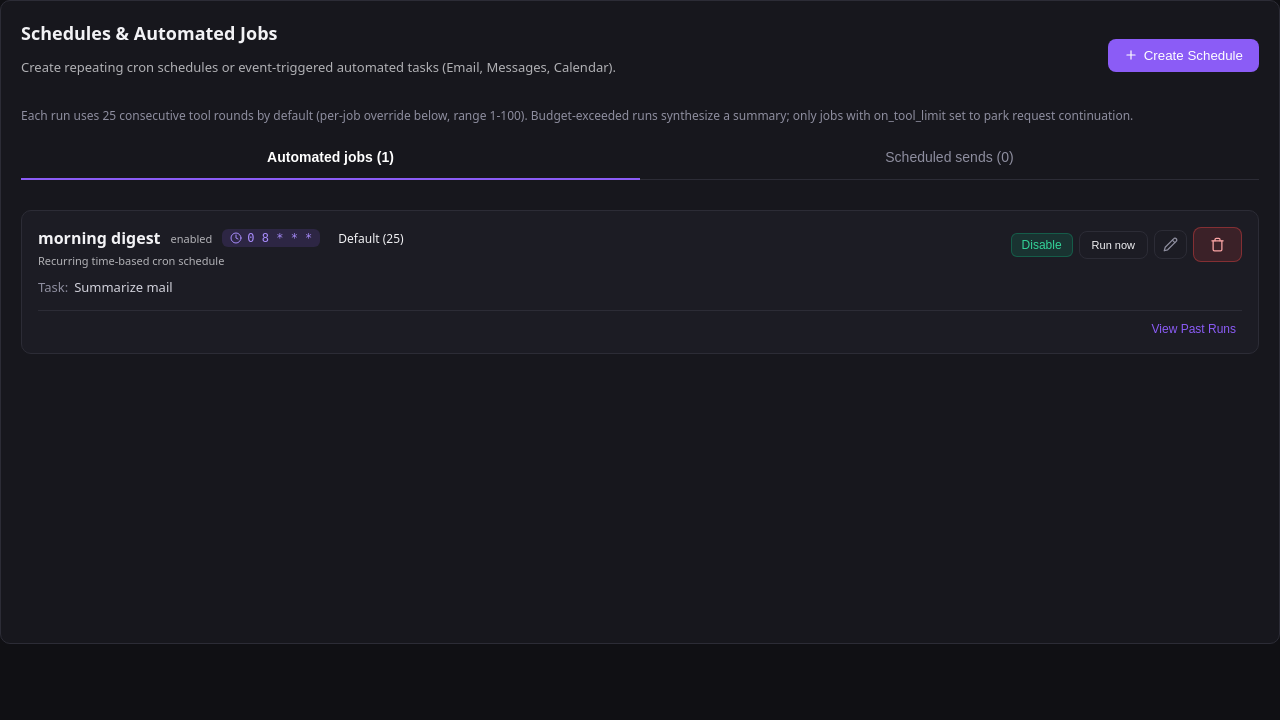
SchedulerManager › runs a job now and deletes it through the shared modal
Expected: the text "morning digest" is shown, [38, 227, 161, 249]
Step 1. Click the button "Run now" → (1113,244), box [1079, 230, 1148, 258]
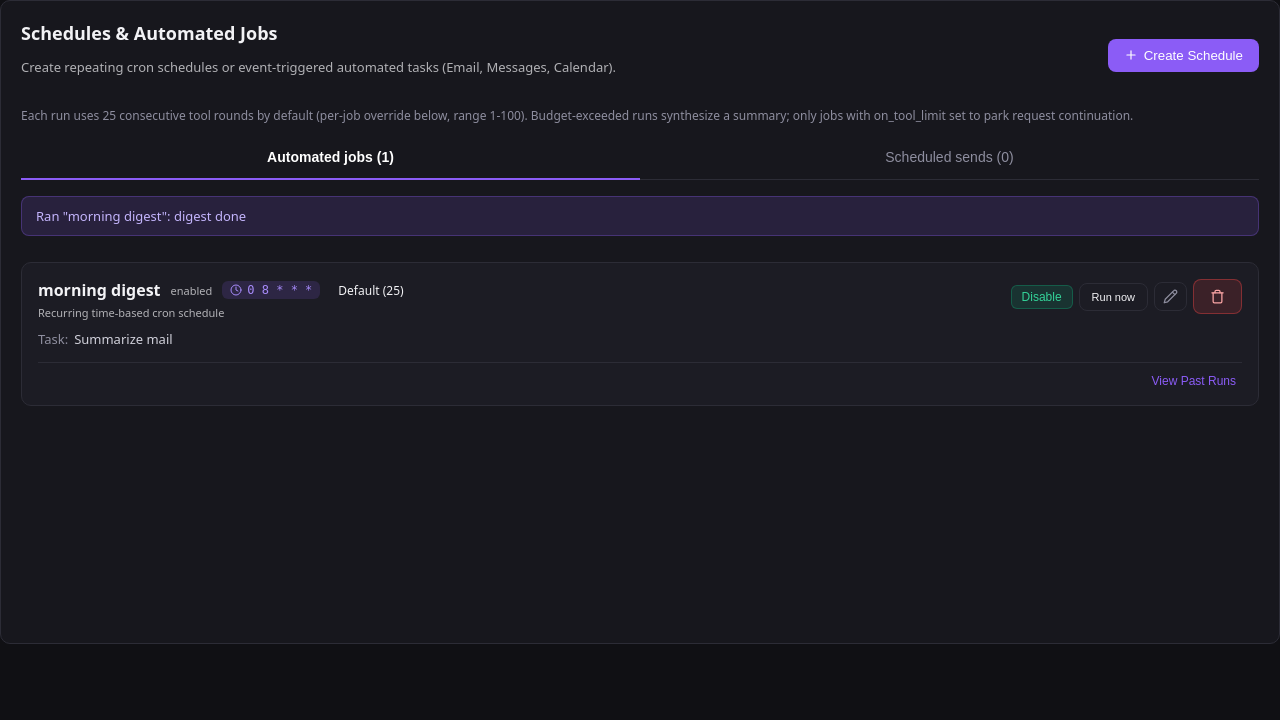
Expected: the text "Ran \"morning digest\": digest done" is shown, [21, 196, 1259, 236]
Step 2. Click the button named "Delete" → (1218,296), box [1193, 279, 1242, 314]
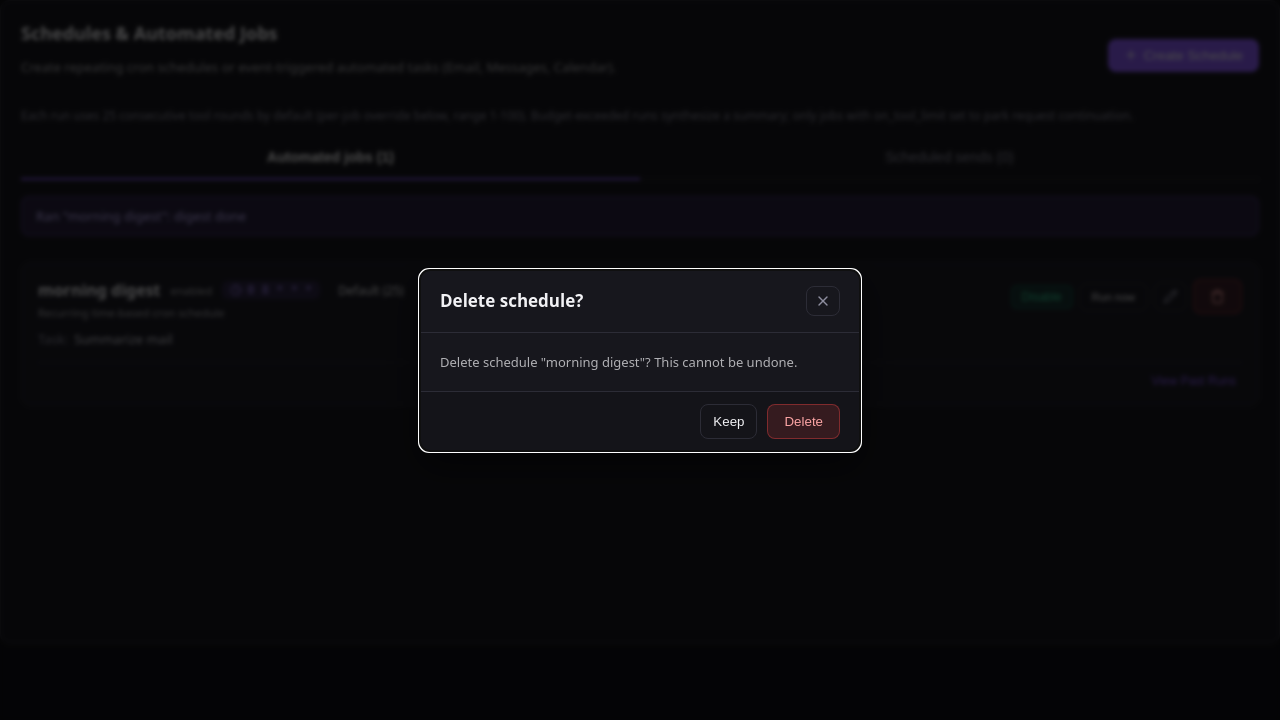
Expected: the dialog named "Confirm delete schedule" is shown
Expected: the element with class "session-delete-modal" is shown, [419, 268, 861, 452]
Keep dismisses without a request.
Step 3. Click the button "Keep" → (729,421), box [700, 404, 757, 438]
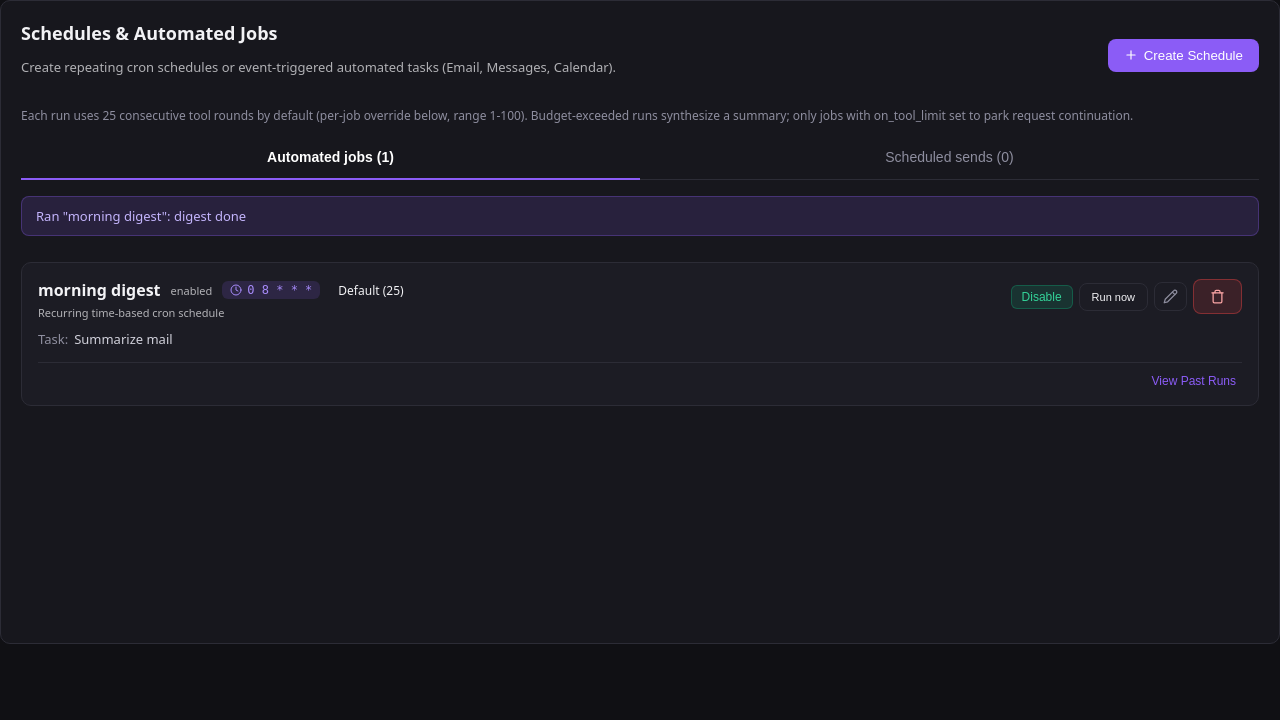
Expected: the text "morning digest" is shown, [38, 279, 161, 301]
Delete confirms the persisted removal.
Step 4. Click the button named "Delete" → (1218,296), box [1193, 279, 1242, 314]
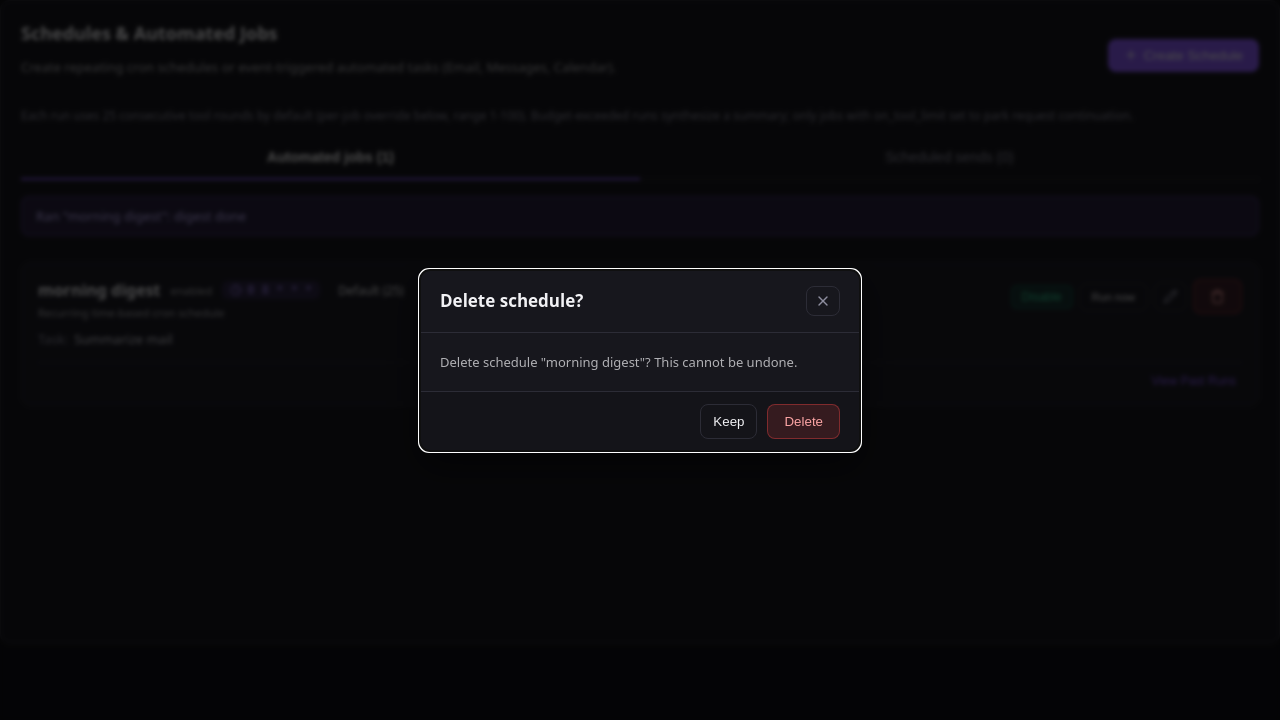
Step 5. Click the button with aria-label "Confirm delete" → (804,421), box [768, 404, 840, 438]
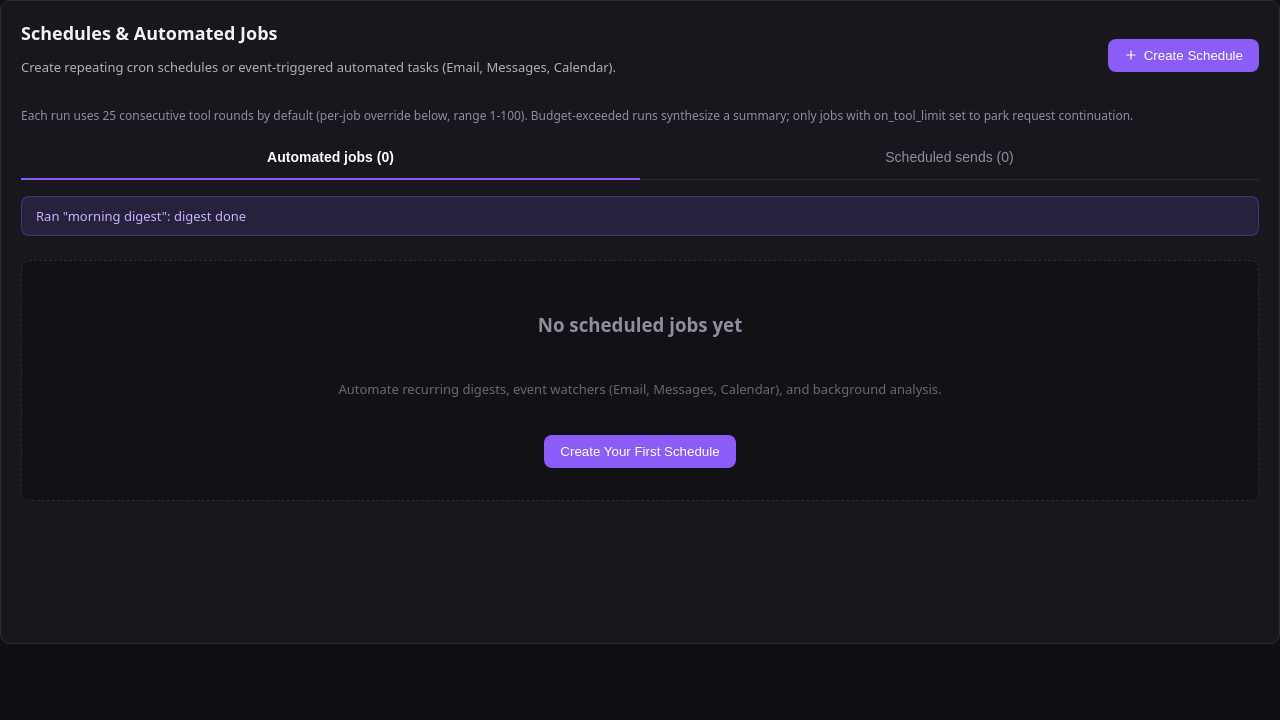
Expected: the heading "No scheduled jobs yet" is shown, [538, 312, 742, 337]
